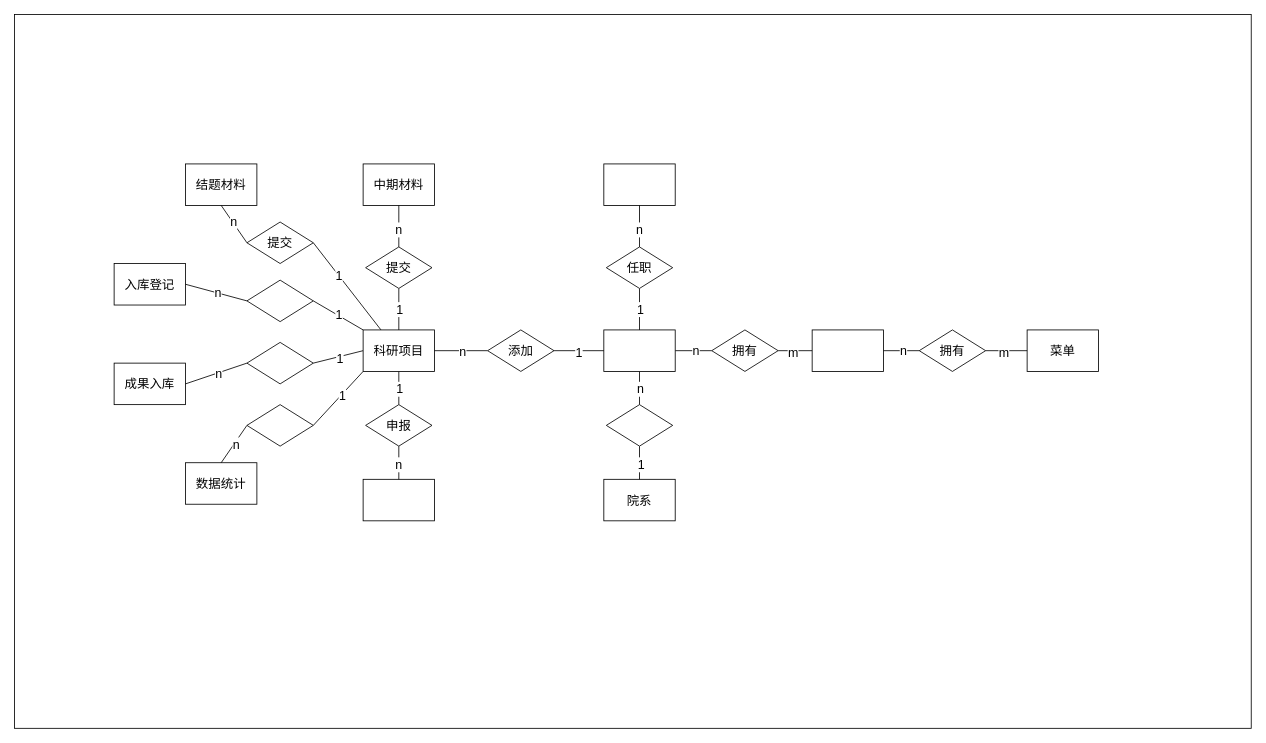
This 1266x743 diagram has some shape labels left out. Each missing label, with the box of its shape:
入库: (246, 342, 313, 384)
审核: (362, 478, 435, 521)
属于: (605, 404, 673, 446)
岗位: (603, 163, 675, 205)
用户: (603, 329, 675, 371)
登记: (246, 279, 313, 322)
统计: (246, 404, 313, 446)
角色: (811, 329, 884, 371)
